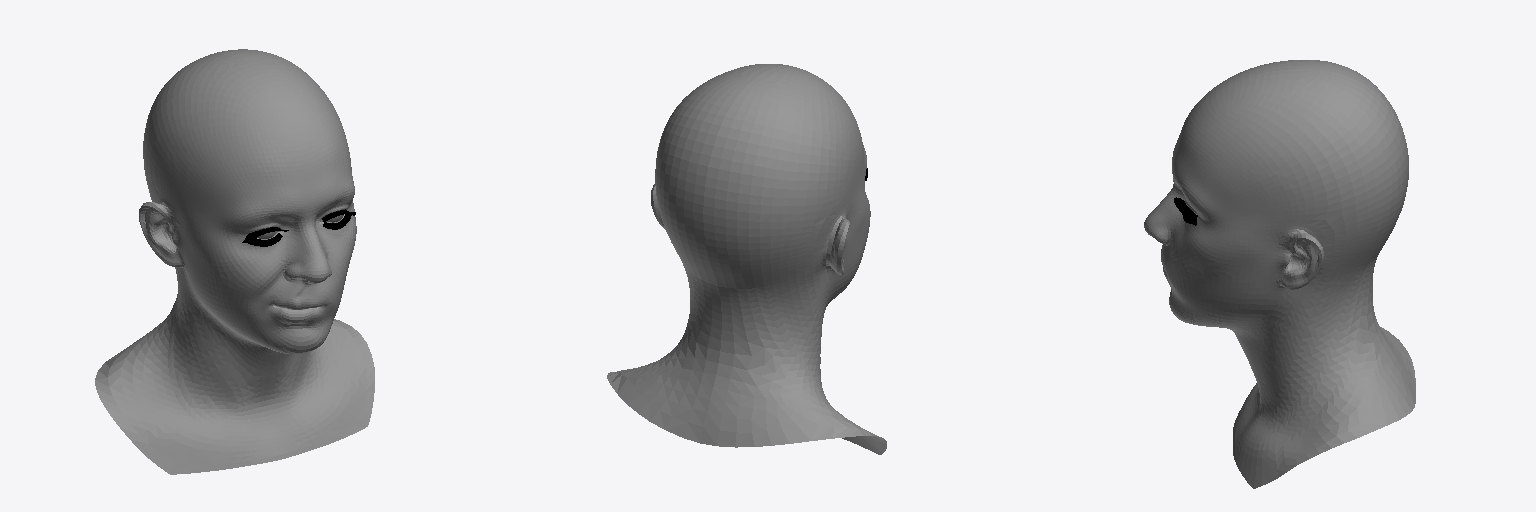
File: mouthRight.obj
The picture shows the model from 3 angles: view 1: azimuth 30°, elevation 25°; view 2: azimuth 150°, elevation 25°; view 3: azimuth 270°, elevation 25°; orthographic projection.
Size of the model in its own units: 24.83 by 33.81 by 22.29.